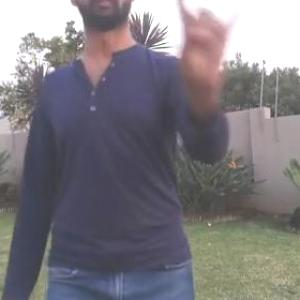takeoff-hand: (166, 0, 262, 98)
